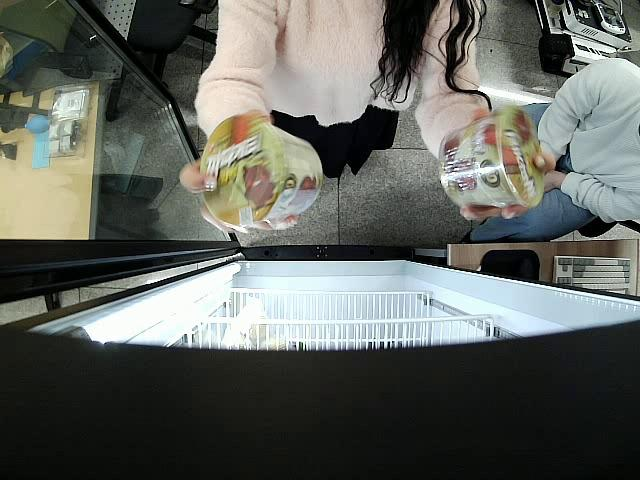00_hand: (457, 108, 557, 220), (179, 157, 298, 236)
04_chapagetti_S: (199, 114, 324, 230), (444, 107, 547, 212)
